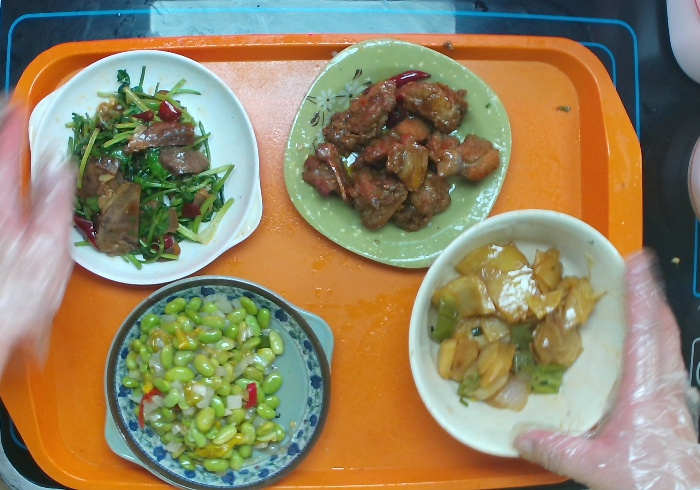NLDX-Bai_Se_Shuang_Er_Die: (21, 48, 268, 289)
NLDX-Bai_Se_Yuan_Wan: (402, 205, 651, 462)
NLDX-Lv_Hua_Fang_Die: (280, 32, 520, 273)
NLDX-Qing_Hua_Shuang_Er_Die: (98, 272, 336, 490)
